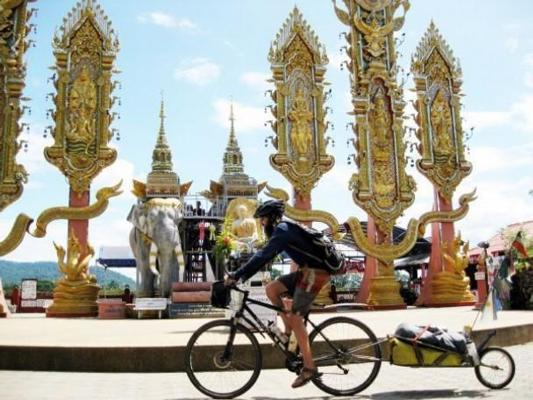person: (227, 201, 348, 389)
